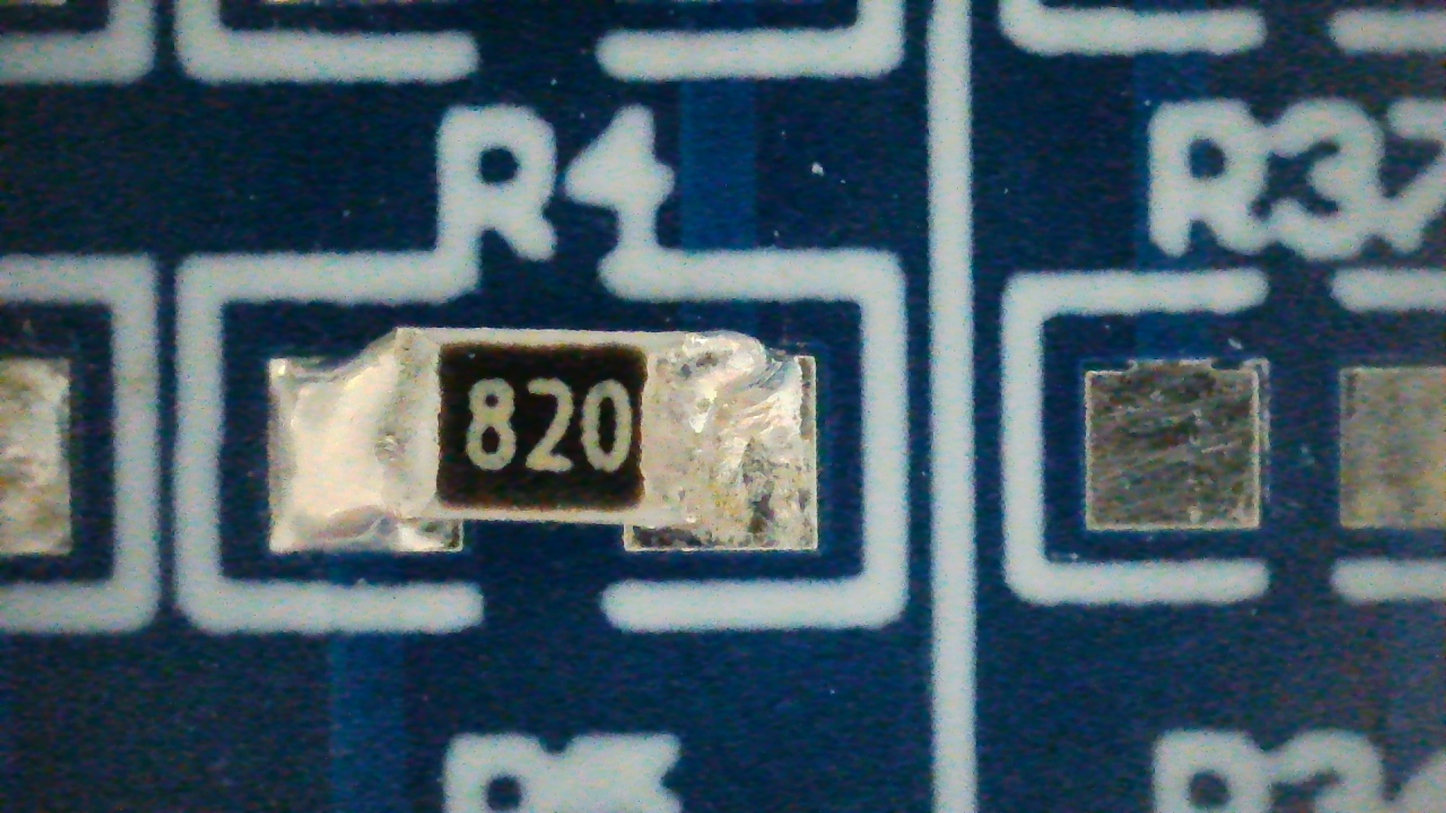NG: (268, 330, 816, 552)
